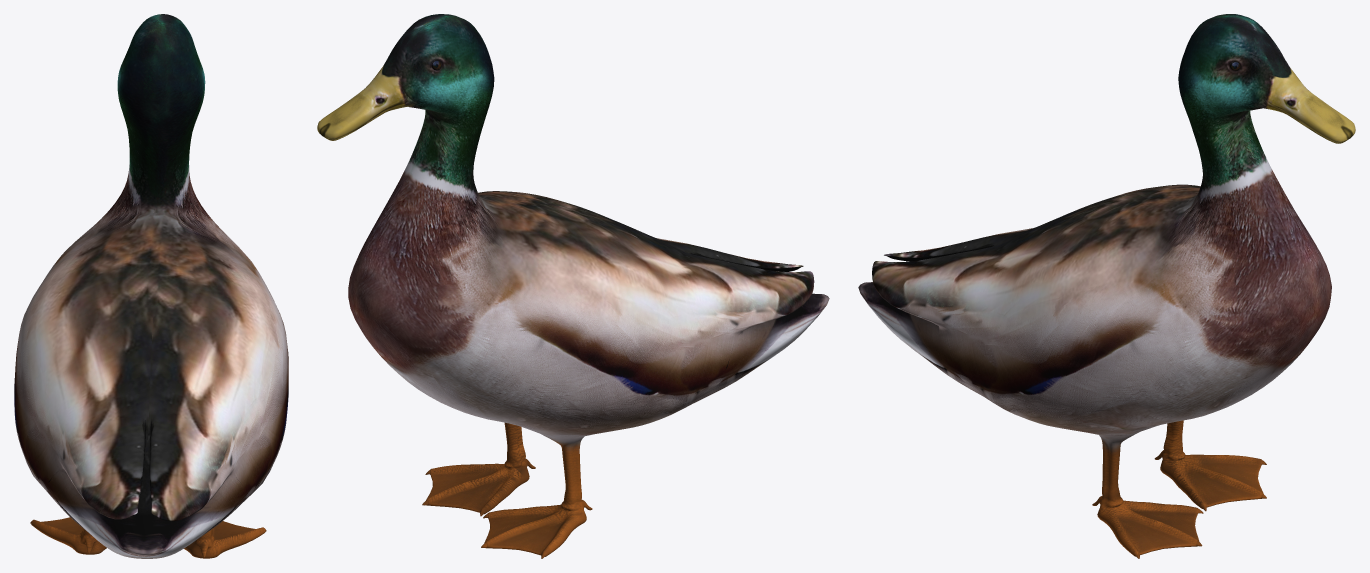
File: bird3.obj
The picture shows the model from 3 angles, left to right: view 1: azimuth 30°, elevation 25°; view 2: azimuth 150°, elevation 25°; view 3: azimuth 270°, elevation 25°; orthographic projection. The views are drawn at different scales.
Visible parts, largest first — view 1: bird.002; view 2: bird.002; view 3: bird.002.
Part boxes in pixels (x1,y1,x2,y2): bird.002: (14, 14, 288, 558); bird.002: (317, 14, 829, 558); bird.002: (858, 14, 1355, 558).
Bounding box in the file's own units: 0.5326 × 0.8646 × 0.7581.
1 material, 1 textured.
